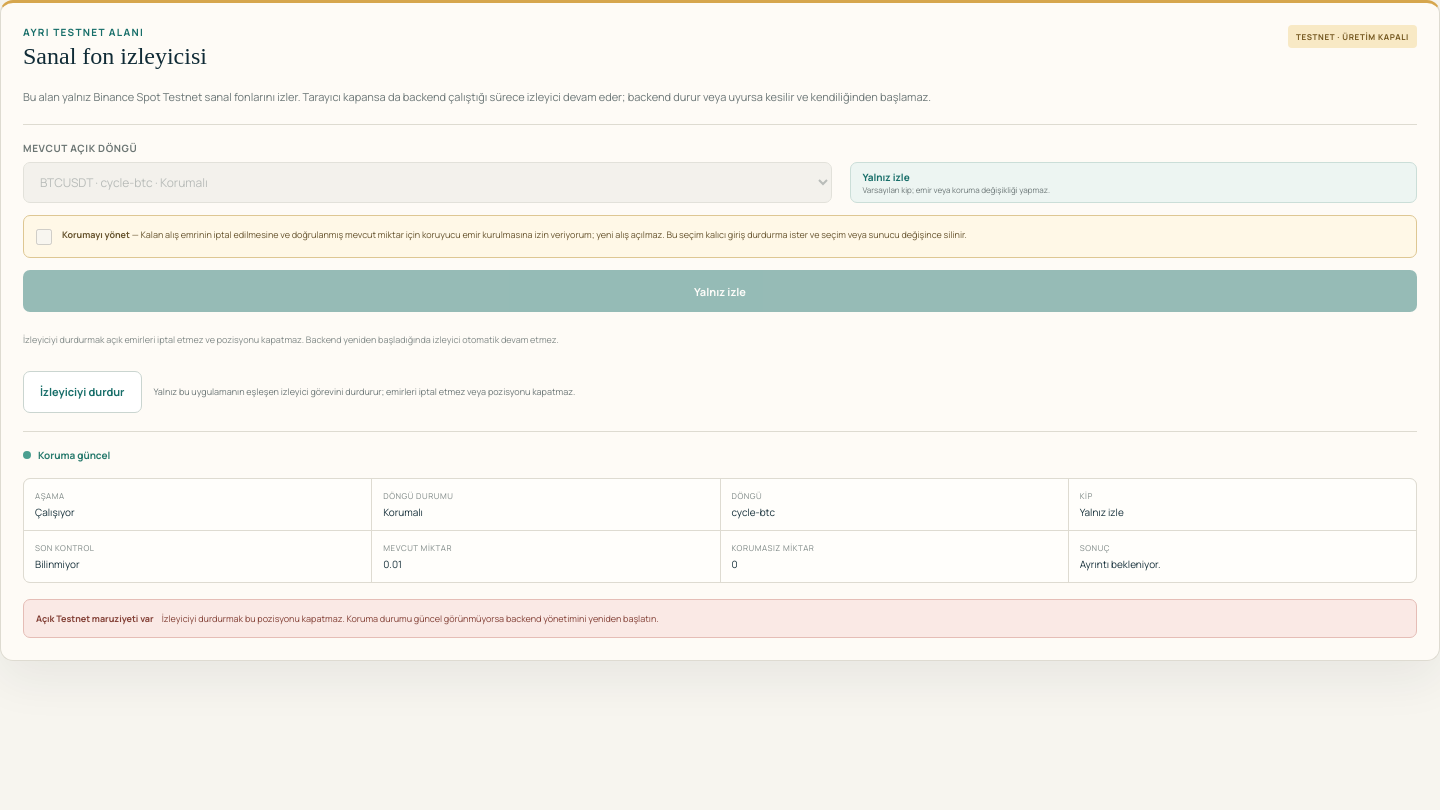
Scenario: TestnetPanel › gecikmiş eski sorgu stop sonucunu geri alamaz
Click the button "İzleyiciyi durdur" at (82,392), box [23, 370, 142, 412]
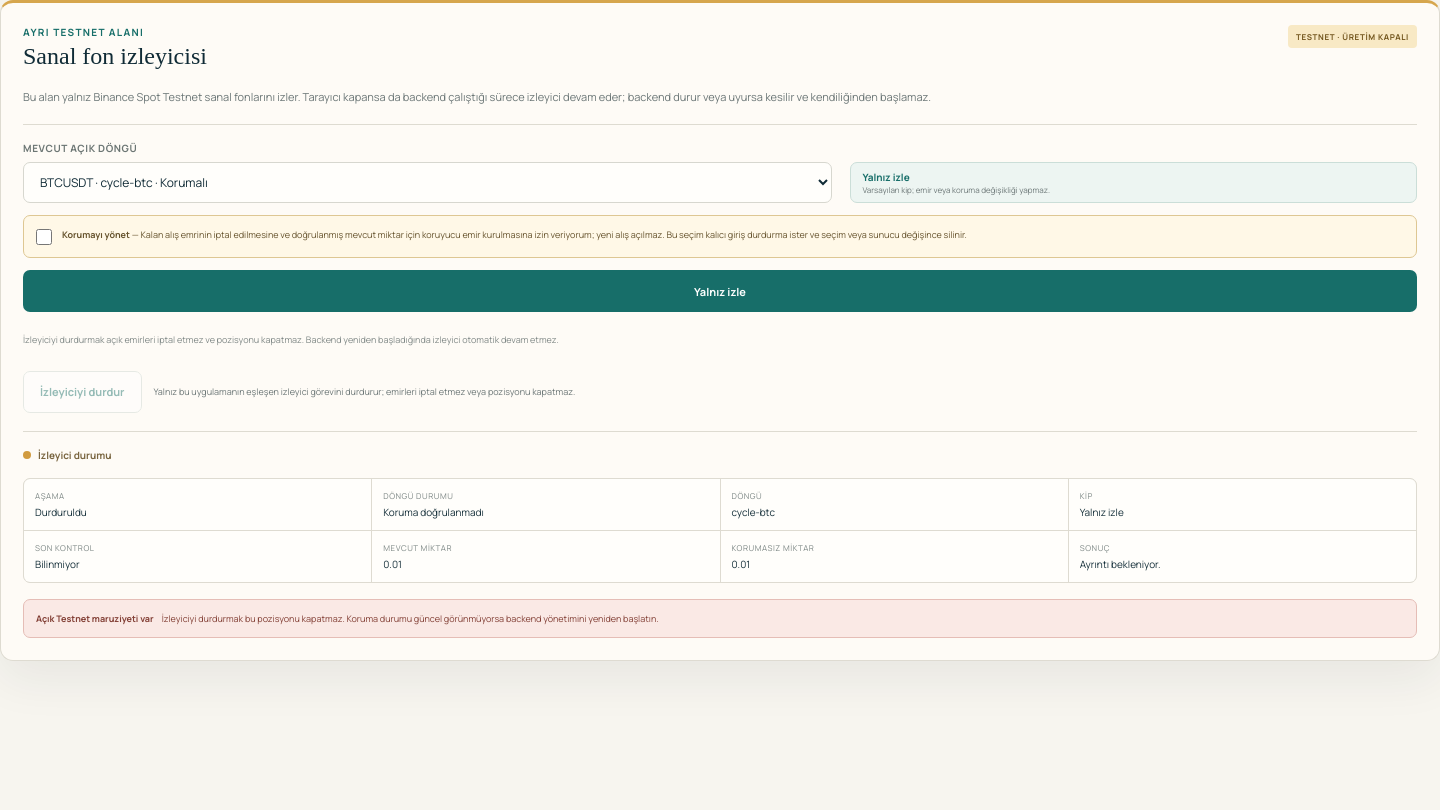
Result: the text "Durduruldu" is shown at [35, 504, 87, 518]
Result: the text "Koruma güncel" is gone
Result: the text "Koruma doğrulanmadı" is shown at [383, 504, 484, 518]
